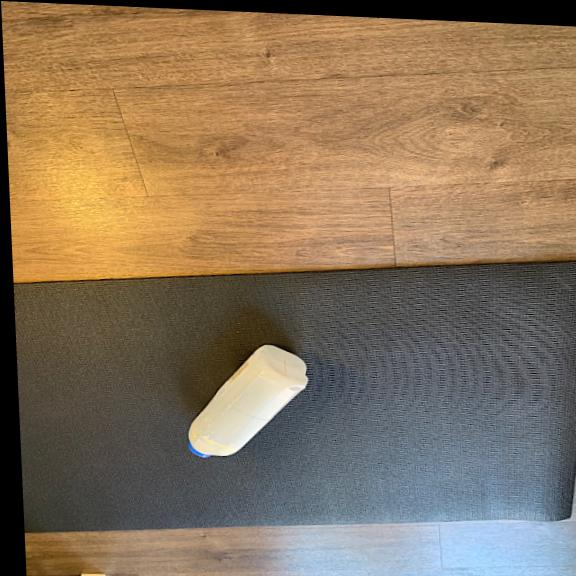Plastik: (179, 337, 317, 463)
